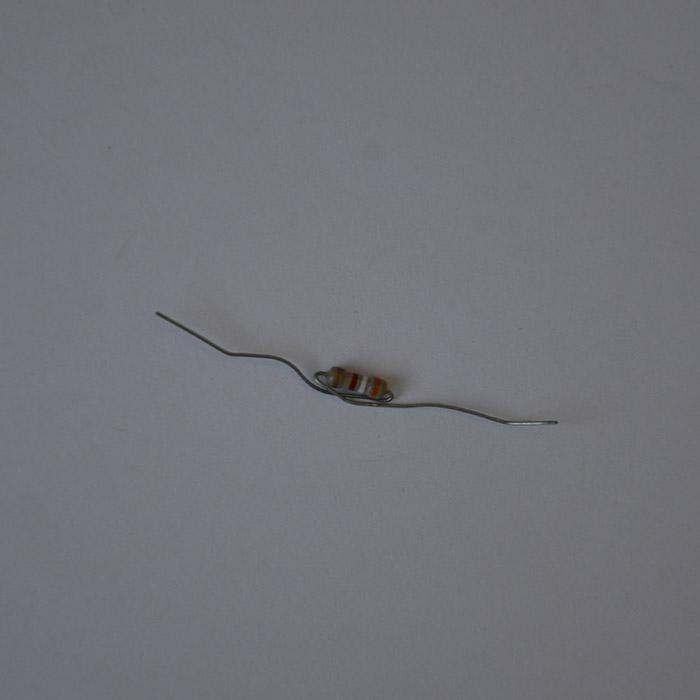resistor: (319, 365, 390, 400)
